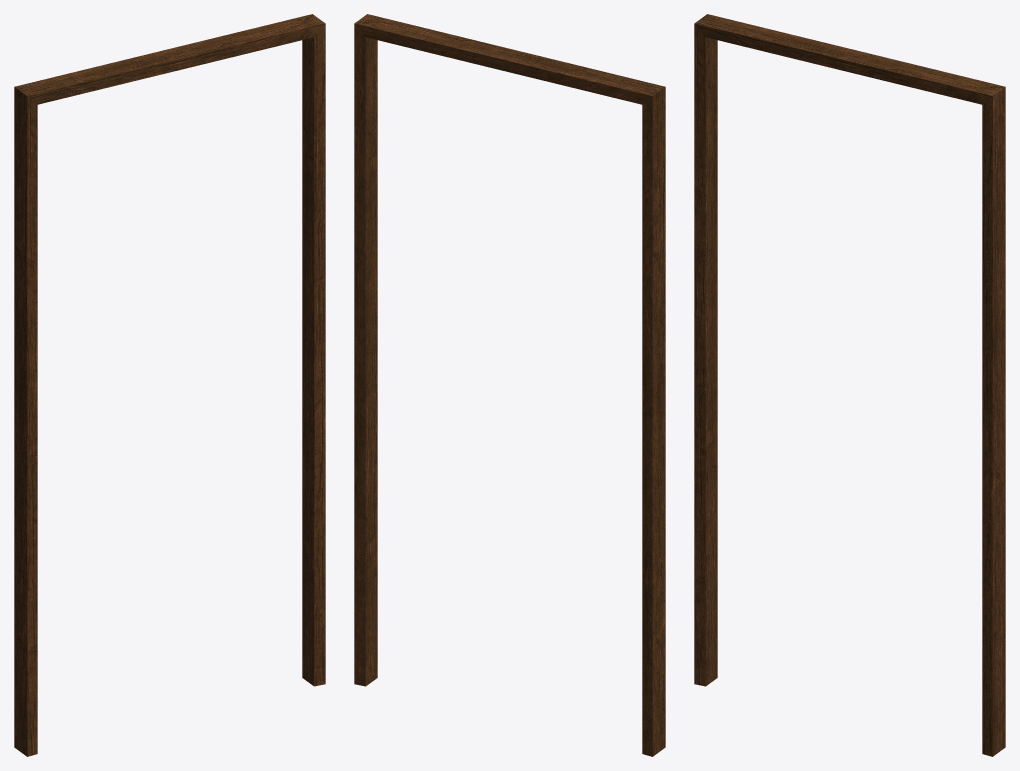
Rendered from KilerKapiKasa.fbx.
3 views of the same model, side by side, from view 1: azimuth 30°, elevation 25°; view 2: azimuth 150°, elevation 25°; view 3: azimuth 330°, elevation 25° (orthographic).
Visible parts, largest first — view 1: Plane.002; view 2: Plane.002; view 3: Plane.002.
Part boxes in pixels (x1,y1,x2,y2): Plane.002: (14,14,325,756); Plane.002: (354,14,665,756); Plane.002: (694,14,1005,756).
Bounding box in the file's own units: 86.31 × 183 × 6.48.
1 material, 1 textured.
